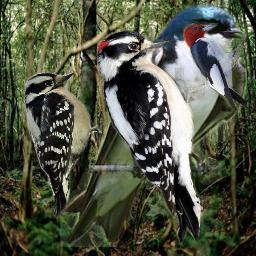Swallow: (59, 2, 247, 247)
Woodpecker: (97, 30, 205, 243), (22, 69, 114, 219), (181, 20, 252, 112)
